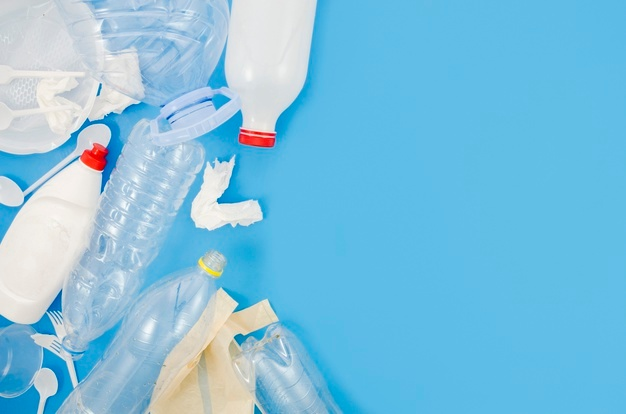plastic_bottle: (36, 78, 268, 403), (52, 1, 336, 183), (204, 1, 427, 194), (41, 247, 254, 414), (1, 122, 142, 367), (218, 261, 369, 414)
